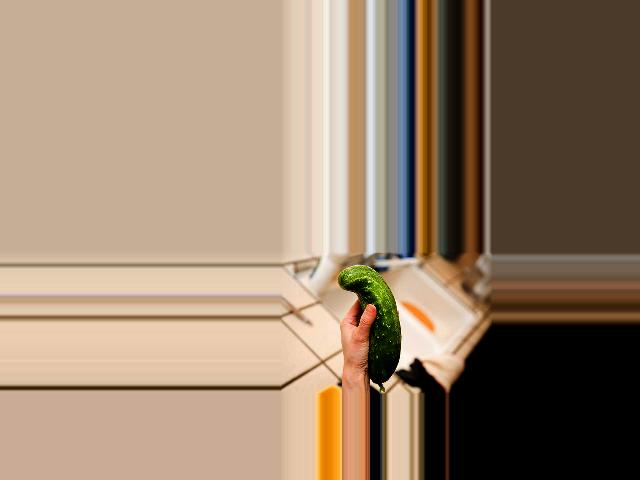cucumber: (338, 264, 402, 392)
